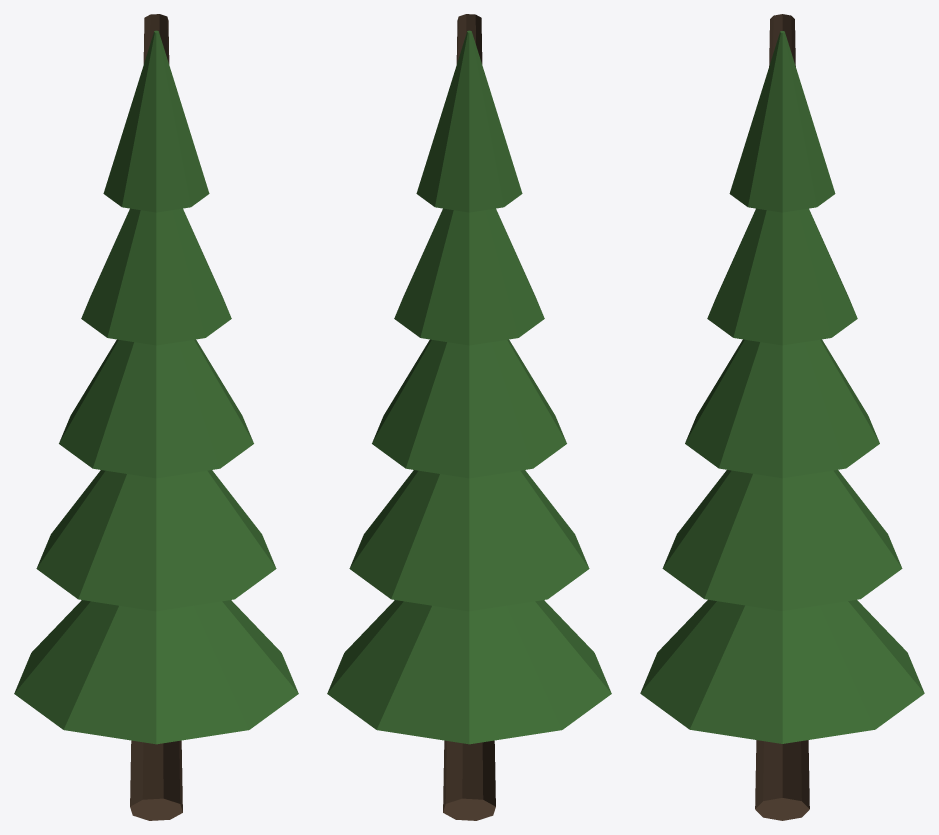
The model's file is tree-conifer-2.glb.
3 views of the same model, side by side, from view 1: azimuth 30°, elevation 25°; view 2: azimuth 150°, elevation 25°; view 3: azimuth 270°, elevation 25° (orthographic).
Visible parts, largest first — view 1: tree-conifer-2; view 2: tree-conifer-2; view 3: tree-conifer-2.
Part boxes in pixels (x1,y1,x2,y2): tree-conifer-2: [14, 14, 298, 820]; tree-conifer-2: [327, 14, 611, 820]; tree-conifer-2: [640, 14, 924, 820].
Size of the model in its own units: 2.25 by 7 by 2.28.
